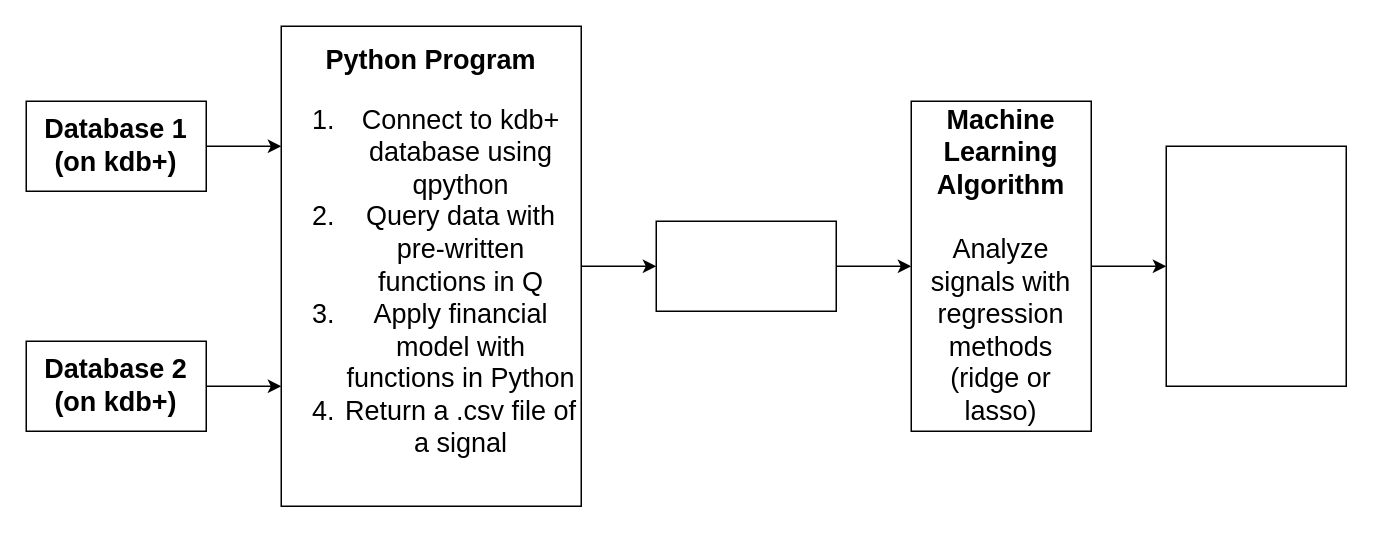
This 1373x533 diagram has some shape labels left out. Each missing label, with the centre of its shape:
"Hit Rate Measured against historical stock performance" goes at (x=1255, y=265).
"Signal" goes at (x=745, y=265).
